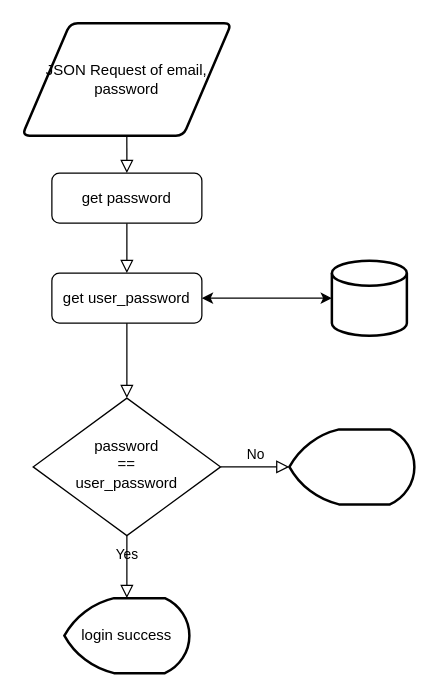
Image size: 438x695. Some labels were removed from this diagram. Each missing label, with the box of its shape:
DB: (330, 259, 408, 336)
login failed: (288, 428, 415, 505)
